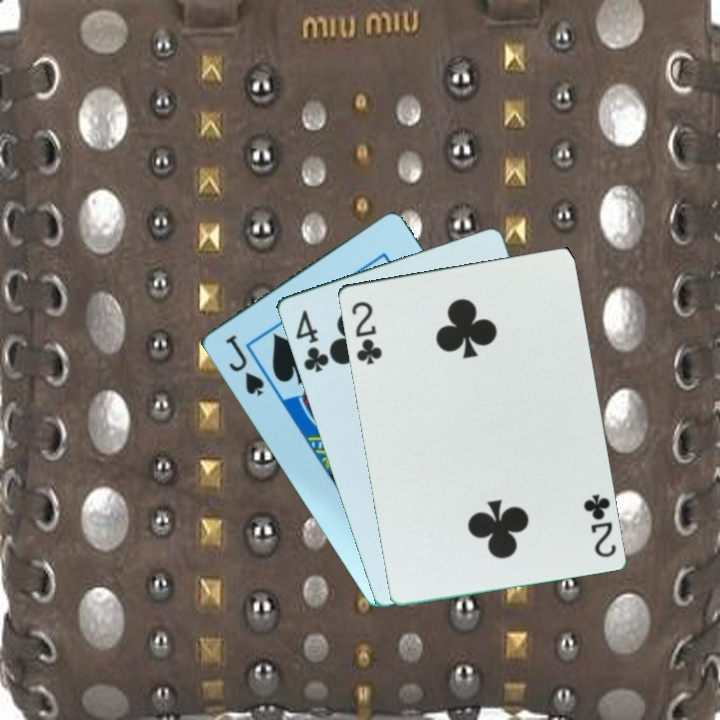2c: (579, 490, 619, 560), (347, 297, 384, 368)
4c: (291, 306, 332, 375)
Js: (221, 331, 267, 400)
